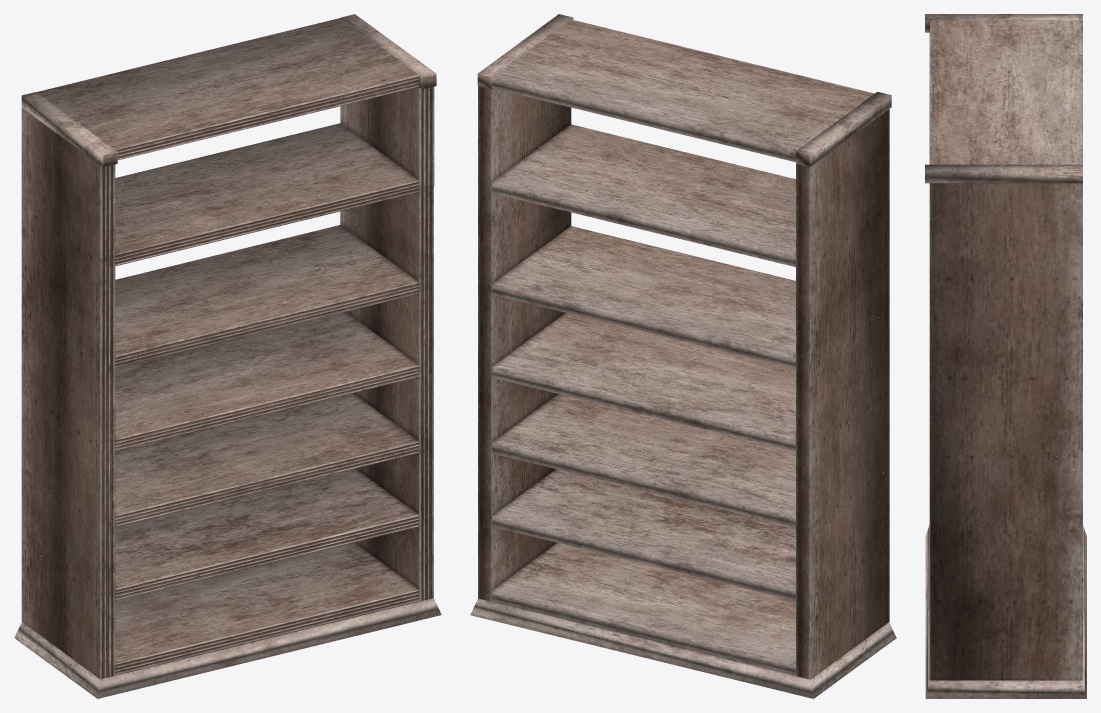
Rendered from wooden_bookshelf_worn.glb.
3 views of the same model, side by side, from view 1: azimuth 30°, elevation 25°; view 2: azimuth 150°, elevation 25°; view 3: azimuth 270°, elevation 25° (orthographic). The views are drawn at different scales.
Visible parts, largest first — view 1: wooden_bookshelf_worn; view 2: wooden_bookshelf_worn; view 3: wooden_bookshelf_worn.
Boxes of the visible parts, x1,y1,x2,y2 form: wooden_bookshelf_worn: [14, 14, 441, 698]; wooden_bookshelf_worn: [470, 14, 896, 698]; wooden_bookshelf_worn: [925, 14, 1086, 698].
Size of the model in its own units: 1.37 by 2.06 by 0.5766.
1 material, 1 textured.
